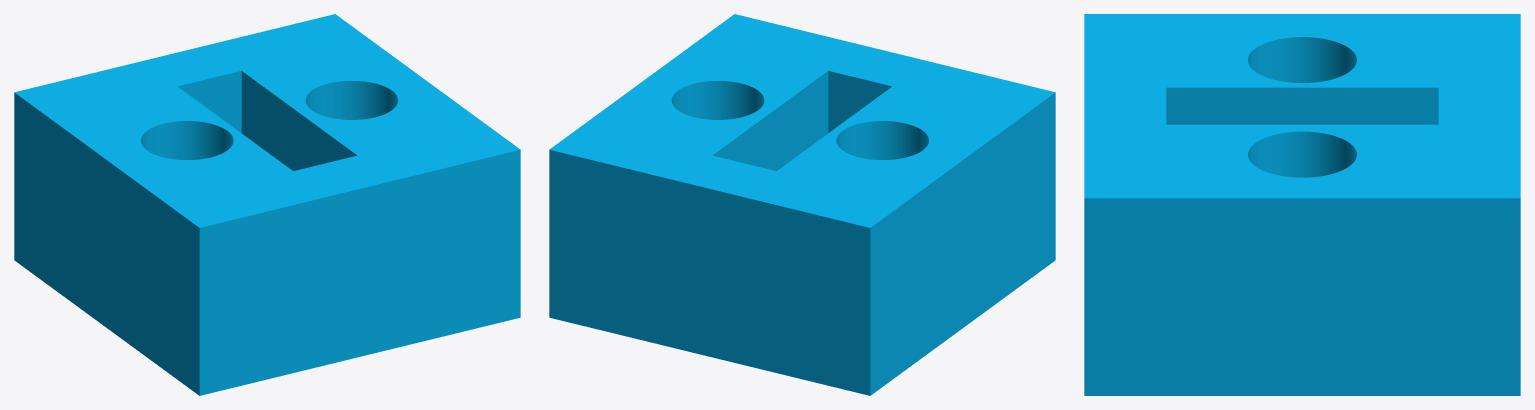
Rendered from cut_cesitleri.gltf.
3 renders of one model, left to right at view 1: azimuth 30°, elevation 25°; view 2: azimuth 150°, elevation 25°; view 3: azimuth 270°, elevation 25°, orthographic. The views are drawn at different scales.
Visible parts, largest first — view 1: Gövde; view 2: Gövde; view 3: Gövde.
Part boxes in pixels (x1,y1,x2,y2): Gövde: [14, 14, 520, 395]; Gövde: [549, 14, 1055, 395]; Gövde: [1084, 14, 1520, 395].
Size of the model in its own units: 0.04 by 0.02 by 0.04.
